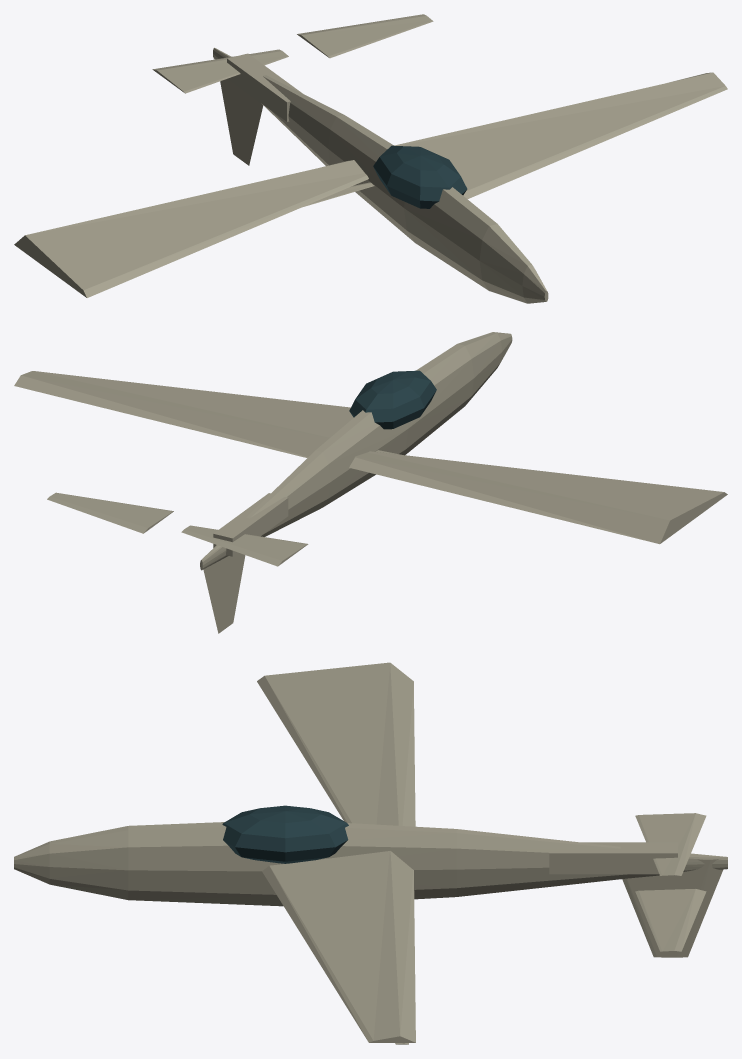
The picture shows the model from 3 angles, top to bottom: view 1: azimuth 30°, elevation 25°; view 2: azimuth 150°, elevation 25°; view 3: azimuth 270°, elevation 25°; orthographic projection. The views are drawn at different scales.
Parts seen in each view (by area): view 1: Wing_L, Fuselage, Wing_R, Cockpit, Elevator_R, Rudder, Elevator_L, TailBoom; view 2: Wing_L, Wing_R, Fuselage, Cockpit, Elevator_R, Rudder, Elevator_L, TailBoom; view 3: Fuselage, Wing_R, Wing_L, Cockpit, TailBoom, Rudder, Elevator_R, Elevator_L.
Part boxes in pixels (x1,y1,x2,y2): Wing_L: (14, 160, 368, 297); Fuselage: (213, 47, 548, 303); Wing_R: (394, 72, 727, 199); Cockpit: (373, 145, 467, 208); Elevator_R: (297, 14, 433, 58); Rudder: (220, 78, 263, 165); Elevator_L: (152, 49, 288, 93); TailBoom: (227, 53, 302, 121); Wing_L: (349, 451, 727, 544); Wing_R: (14, 371, 353, 457); Fuselage: (200, 332, 512, 570); Cockpit: (349, 370, 436, 429); Elevator_R: (47, 492, 173, 533); Rudder: (203, 552, 245, 633); Elevator_L: (181, 525, 308, 566); TailBoom: (213, 493, 288, 556); Fuselage: (14, 822, 727, 906); Wing_R: (262, 851, 415, 1042); Wing_L: (257, 662, 415, 826); Cockpit: (222, 805, 348, 863); TailBoom: (549, 842, 677, 874); Rudder: (622, 859, 722, 957); Elevator_R: (635, 889, 706, 951); Elevator_L: (635, 813, 706, 875).
Size of the model in its own units: 13.25 by 2.48 by 11.
